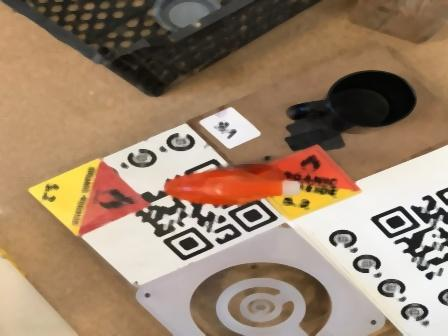organic-peroxide: (22, 158, 150, 240), (248, 146, 362, 219)
